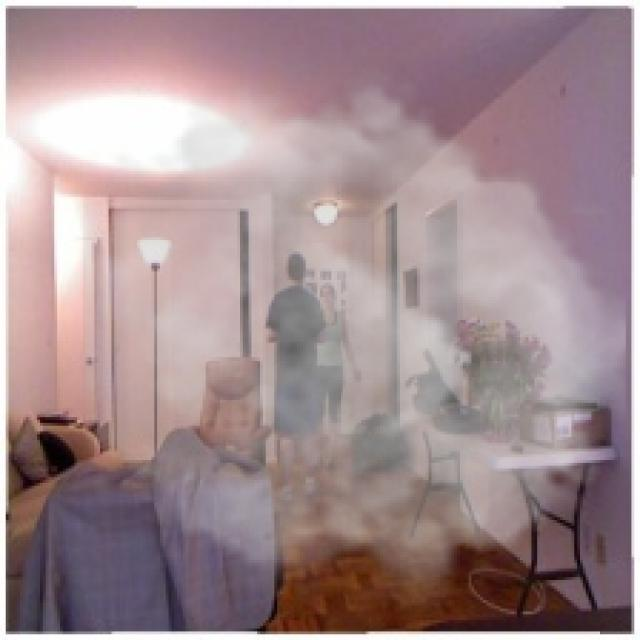Smoke: (83, 63, 626, 612)
